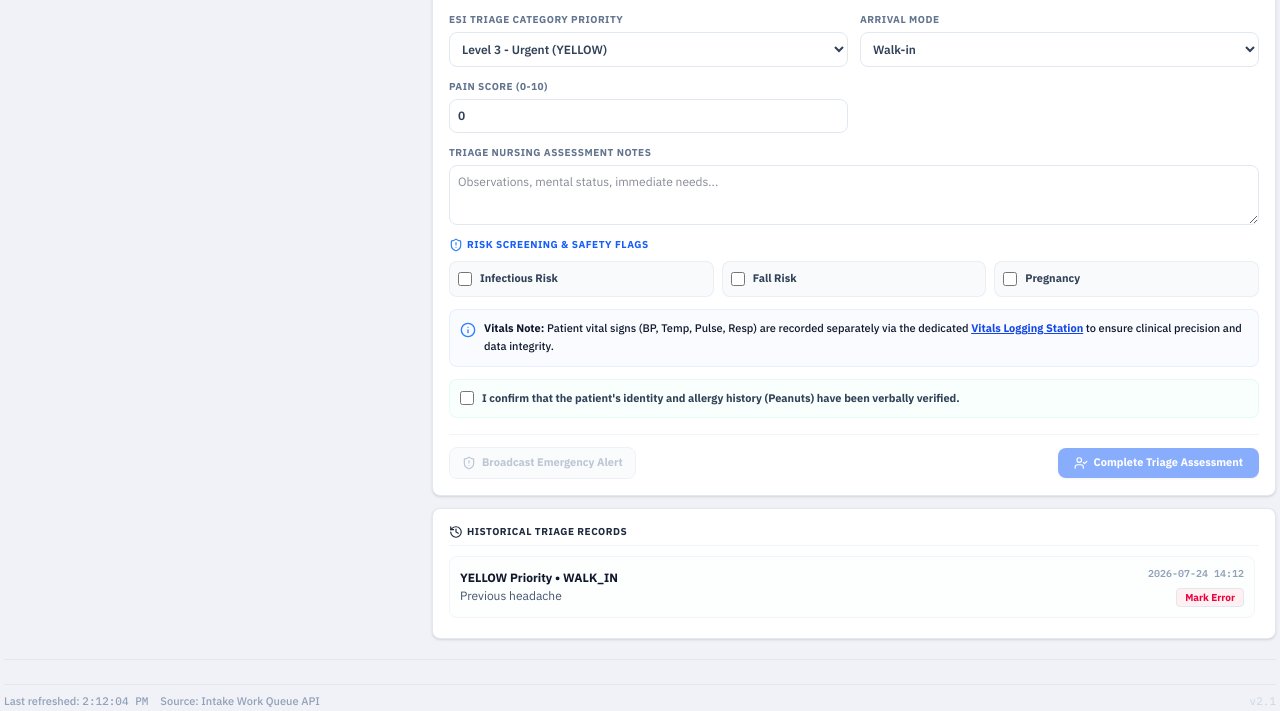
NurseTriageQueuePage › renders 403 error safely when correction is rejected
The image size is (1280, 711).
(page scrolled)
Click the button "Mark Error": (1210, 598) [1176, 588, 1244, 607]
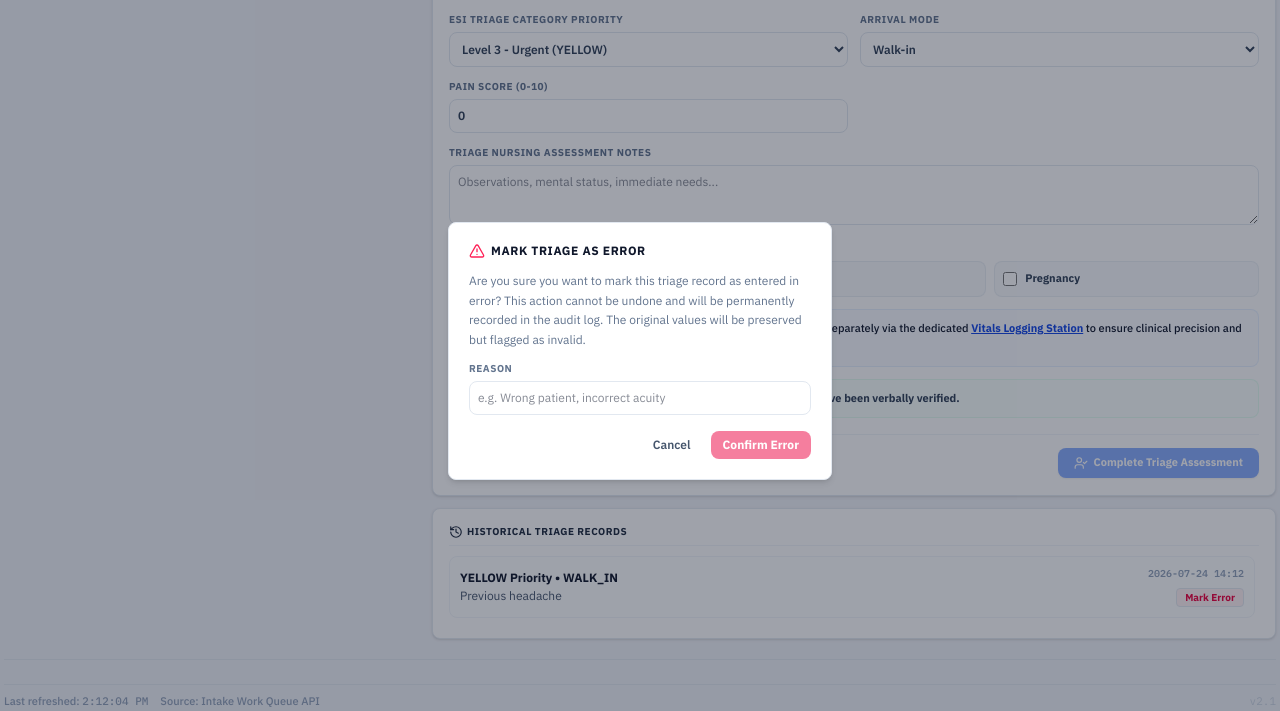
Check: the heading "Mark Triage as Error" is shown, box [469, 243, 646, 259]
In the field with placeholder "e.g. Wrong patient, incorrect acuity": (640, 398) [469, 381, 811, 415], type "Test reason"
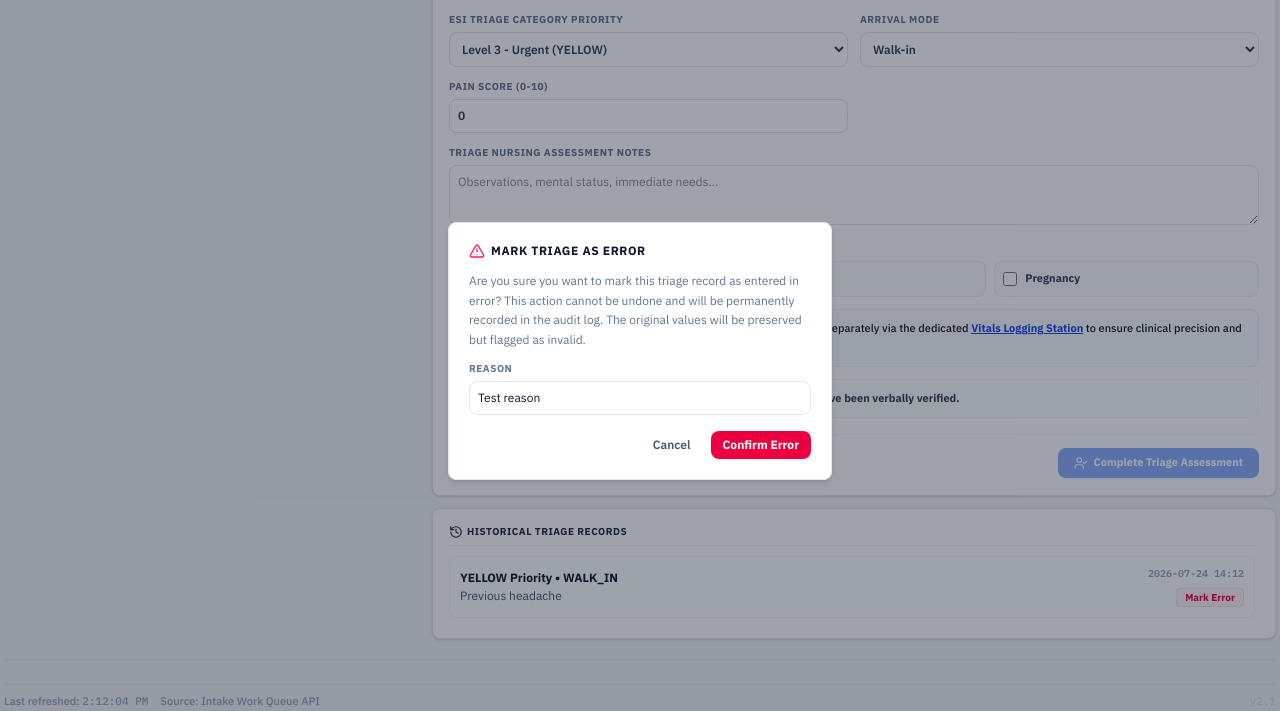
Click the button "Confirm Error": (761, 445) [710, 431, 811, 459]
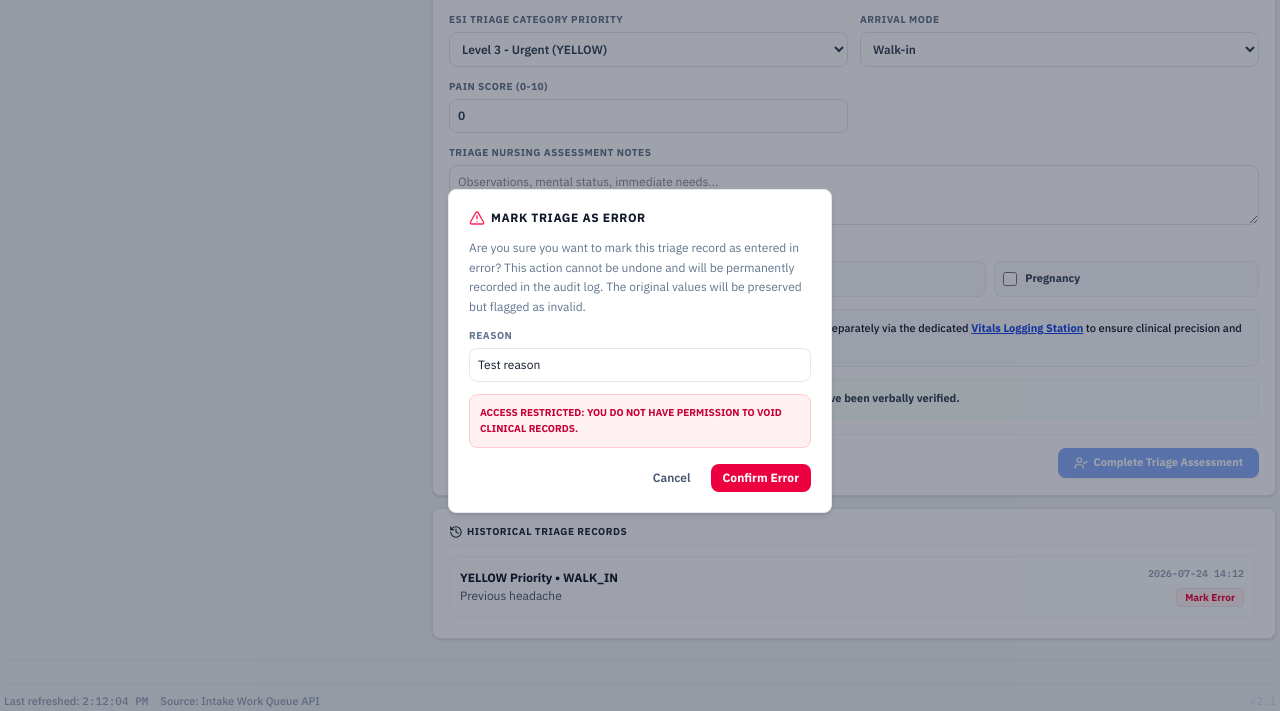
Check: the text "Access Restricted" is shown, box [480, 406, 782, 435]
